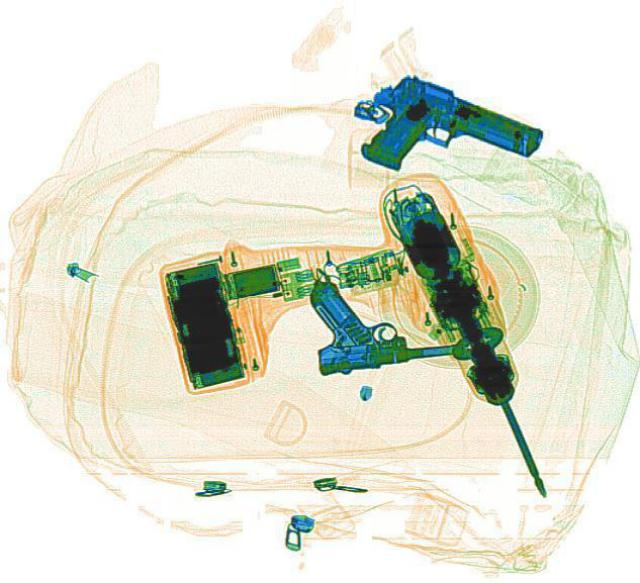Gun: (328, 60, 548, 212), (302, 263, 472, 374)
